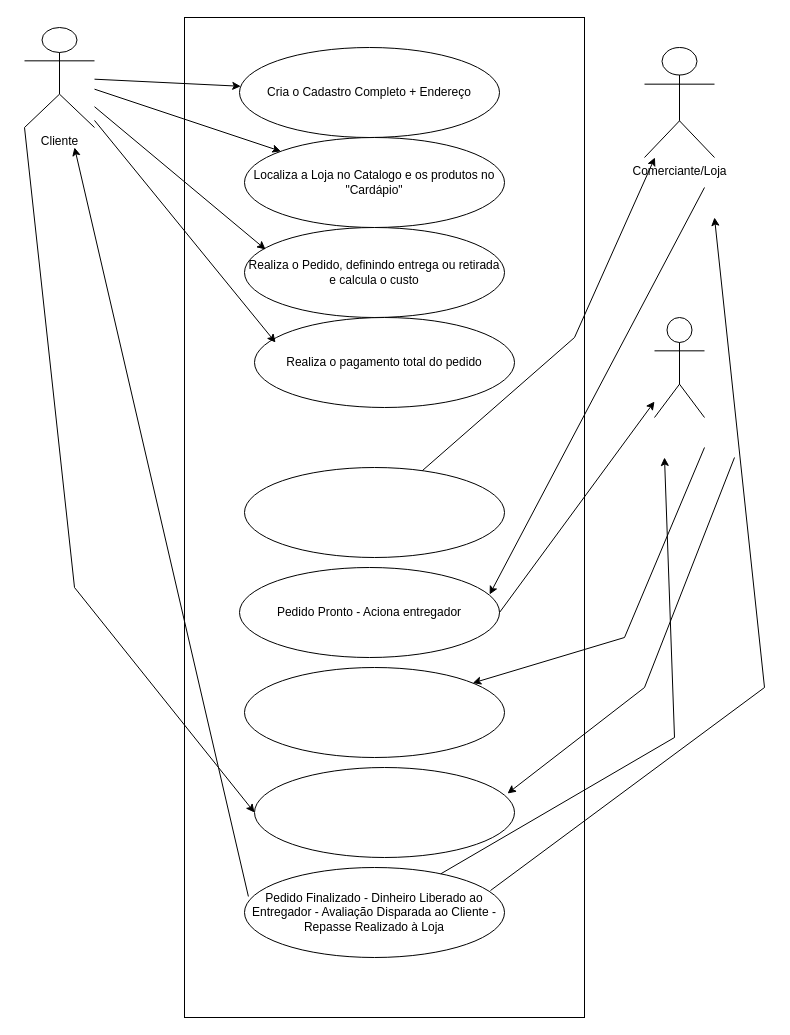
The diagram is 790 pixels wide and 1035 high, and some of its shapes have lost their labels. The shapes that lost their labels are listed below. From the top down, each one's centre as x and y in pixels, then its label:
At point 679,367: "Entregador".
At point 374,512: "Pedido enviado para Processamento/Produção".
At point 374,712: "Entregador Recebe o Pedido + Dados da Entrega".
At point 384,812: "Cliente Confirma Recebimento ou Entregador".
